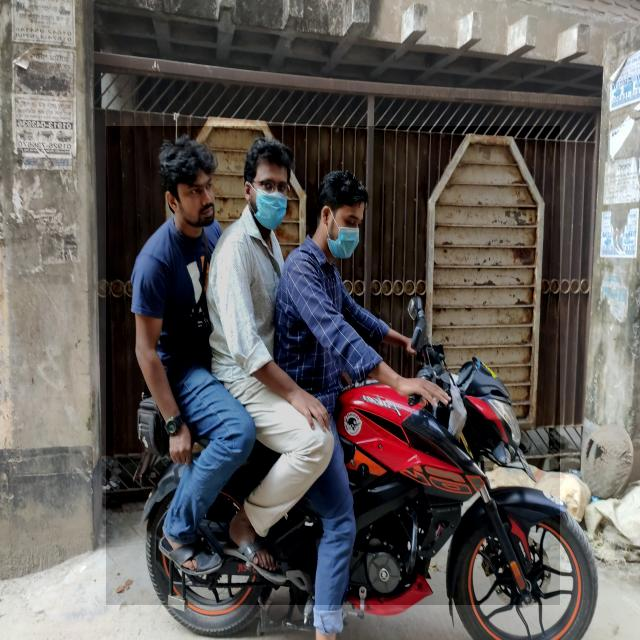Overloading: (106, 126, 560, 605)
